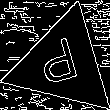P_S: (38, 35, 87, 94)
